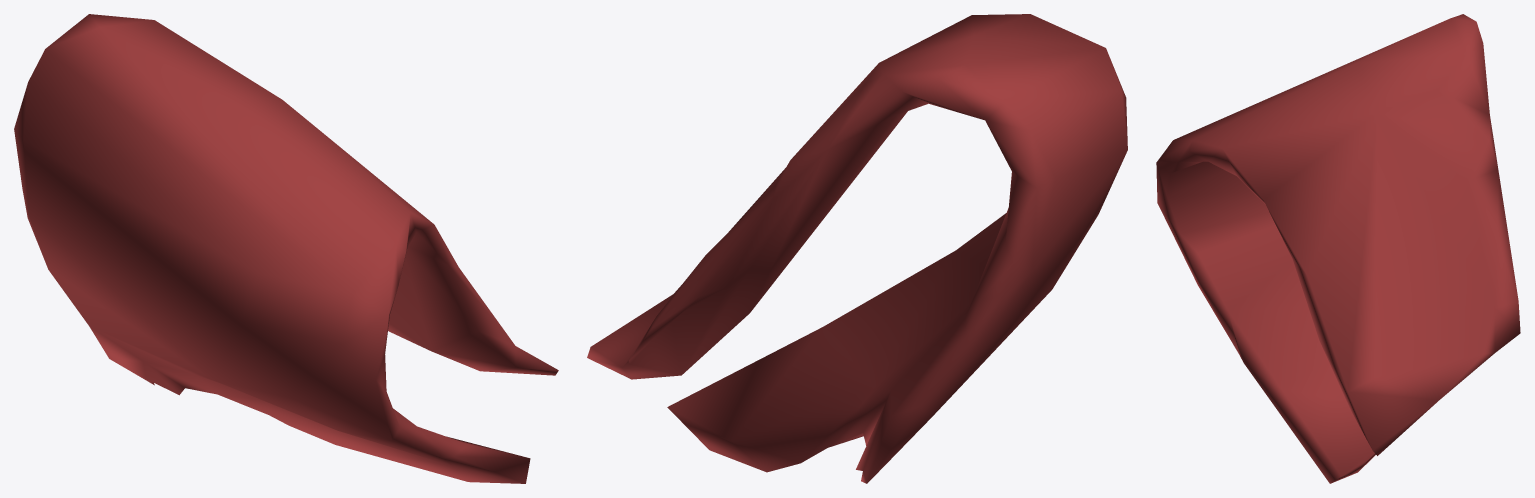
File: intermediate-tendon-of-digastric-muscle-r.glb
3 renders of one model, left to right at view 1: azimuth 30°, elevation 25°; view 2: azimuth 150°, elevation 25°; view 3: azimuth 270°, elevation 25°, orthographic. The views are drawn at different scales.
Parts seen in each view (by area): view 1: Intermediate tendon of digastric muscle.r; view 2: Intermediate tendon of digastric muscle.r; view 3: Intermediate tendon of digastric muscle.r.
Part boxes in pixels (box(x1,y1,x2,y2)): Intermediate tendon of digastric muscle.r: box(14, 14, 558, 483); Intermediate tendon of digastric muscle.r: box(587, 14, 1127, 483); Intermediate tendon of digastric muscle.r: box(1156, 14, 1520, 483).
Size of the model in its own units: 0.0079 by 0.00749 by 0.00712.
